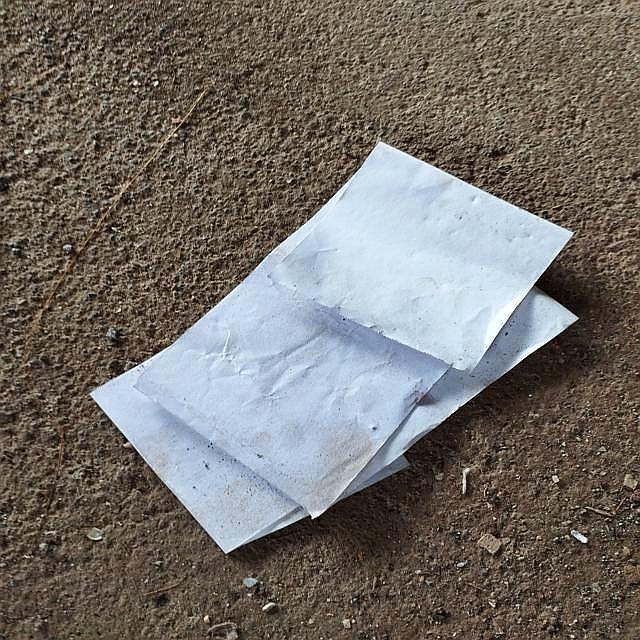Biodegradable: (80, 110, 626, 582)
